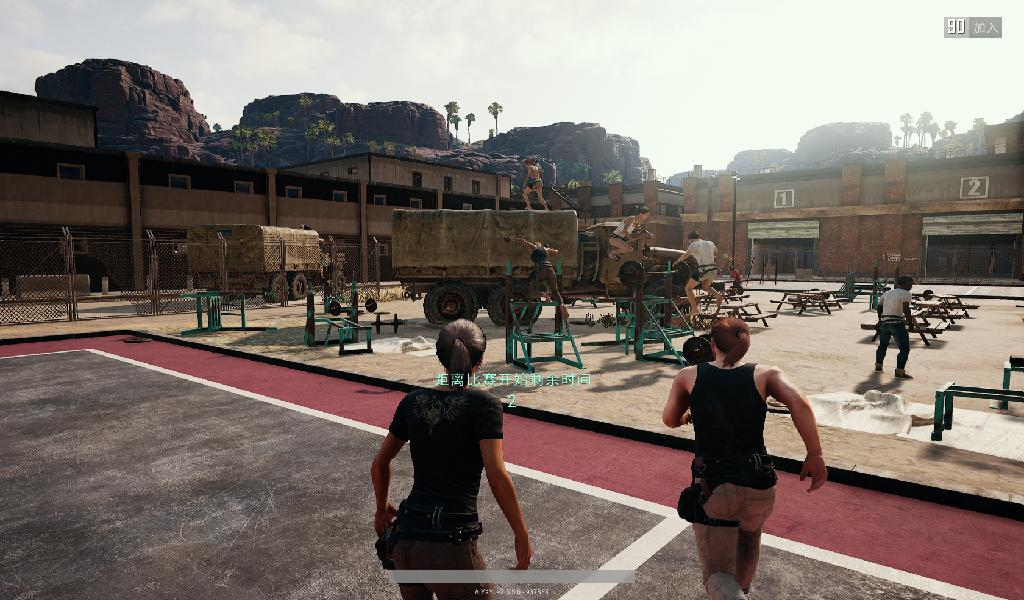Target Person: (662, 316, 829, 600), (367, 317, 531, 600), (513, 234, 568, 318), (673, 228, 722, 318), (873, 272, 913, 379), (521, 158, 548, 211)
